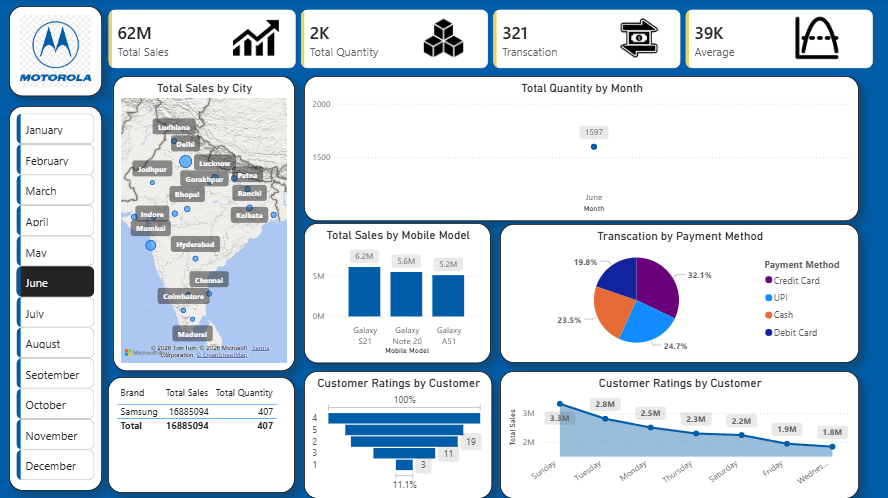

This screenshot's page, from the dashboard's own definition file:
{"tool":"powerbi","page":{"name":"Page 1","canvas":[1280,720],"ordinal":0},"visuals":[{"type":"shape","box":[13,10.1,133.9,129.6],"z":0},{"type":"image","box":[24.5,23,110.9,103.7],"z":1000},{"type":"shape","box":[13,154.1,133.9,554.4],"z":2000},{"type":"advancedSlicerVisual","fields":{"Values":["Sales_Data.Date.Variation.Date Hierarchy.Month"]},"box":[18.7,159.8,122.4,542.9],"z":3000},{"type":"cardVisual","fields":{"Data":["Sales_Data.Total Sales","Sales_Data.Total Quantity","Sales_Data.Transcation","Sales_Data.Average"]},"box":[141.1,0,1133.3,115.2],"z":4000},{"type":"image","box":[322.6,23,92.2,66.2],"z":5000},{"type":"image","box":[583.2,23,110.9,66.2],"z":6000},{"type":"image","box":[869.8,23,100.8,66.2],"z":7000},{"type":"image","box":[1105.9,23,141.1,66.2],"z":8000},{"type":"map","fields":{"Category":["Sales_Data.City"],"Size":["Sales_Data.Total Sales"]},"box":[162.7,110.9,262.1,424.8],"z":9000},{"type":"lineChart","fields":{"Y":["Sales_Data.Total Quantity"],"Category":["Sales_Data.Date.Variation.Date Hierarchy.Month","Sales_Data.Date.Variation.Date Hierarchy.Day"]},"box":[437.8,110.9,799.2,208.8],"z":10000},{"type":"clusteredColumnChart","fields":{"Category":["Sales_Data.Mobile Model"],"Y":["Sales_Data.Total Sales"]},"box":[437.8,322.6,269.3,201.6],"z":11000},{"type":"pieChart","fields":{"Category":["Sales_Data.Payment Method"],"Y":["Sales_Data.Transcation"]},"box":[720,324,517,200.2],"z":12000},{"type":"funnel","title":" Customer Ratings by Customer ","fields":{"Category":["Sales_Data.Customer Ratings"],"Y":["CountNonNull(Sales_Data.Customer Ratings)"]},"box":[437.8,535.7,270.7,184.3],"z":13000},{"type":"areaChart","title":" Customer Ratings by Customer ","fields":{"Category":["Sales_Data.Day Name"],"Y":["Sales_Data.Total Sales"]},"box":[720,535.7,517,184.3],"z":14000},{"type":"tableEx","fields":{"Values":["Sales_Data.Brand","Sales_Data.Total Sales","Sales_Data.Total Quantity"]},"box":[155.5,544.3,269.3,167],"z":15000}]}

Visuals, with their boxes in screenshot pixels (x1, y1, x2, y2), scaled from the page's 1280x720 canvas onto the 888x498 screenshot:
shape: rect(9, 7, 102, 97)
image: rect(17, 16, 94, 88)
shape: rect(9, 107, 102, 490)
advancedSlicerVisual - Sales_Data.Date.Variation.Date Hierarchy.Month: rect(13, 111, 98, 486)
cardVisual - Sales_Data.Total Sales x Sales_Data.Total Quantity: rect(98, 0, 884, 80)
image: rect(224, 16, 288, 62)
image: rect(405, 16, 482, 62)
image: rect(603, 16, 673, 62)
image: rect(767, 16, 865, 62)
map - Sales_Data.City x Sales_Data.Total Sales: rect(113, 77, 295, 371)
lineChart - Sales_Data.Total Quantity x Sales_Data.Date.Variation.Date Hierarchy.Month: rect(304, 77, 858, 221)
clusteredColumnChart - Sales_Data.Mobile Model x Sales_Data.Total Sales: rect(304, 223, 491, 363)
pieChart - Sales_Data.Payment Method x Sales_Data.Transcation: rect(500, 224, 858, 363)
" Customer Ratings by Customer " funnel: rect(304, 371, 492, 497)
" Customer Ratings by Customer " areaChart: rect(500, 371, 858, 497)
tableEx - Sales_Data.Brand x Sales_Data.Total Sales: rect(108, 376, 295, 492)
